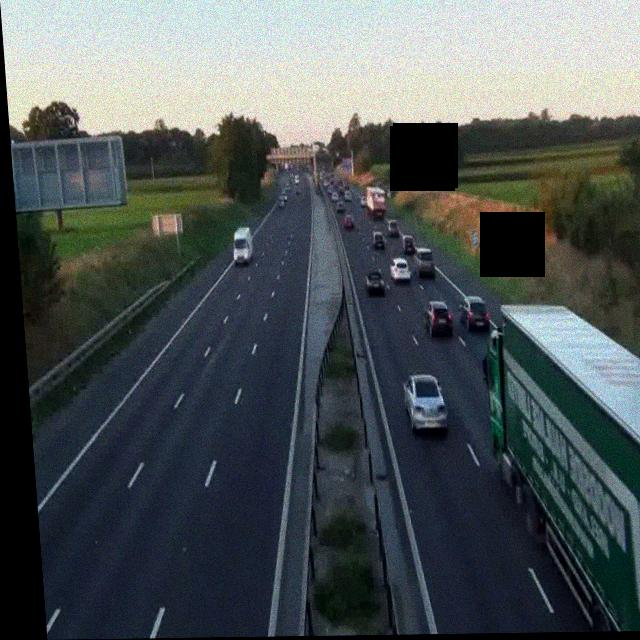bus: (365, 183, 390, 219)
car: (405, 373, 449, 433), (423, 300, 454, 337), (461, 297, 489, 331), (413, 247, 437, 278), (390, 255, 412, 282), (366, 269, 387, 294), (400, 233, 416, 254), (371, 230, 386, 250), (386, 219, 401, 238), (343, 212, 356, 228), (332, 193, 341, 206), (278, 196, 287, 208)
truck: (480, 303, 640, 633)
